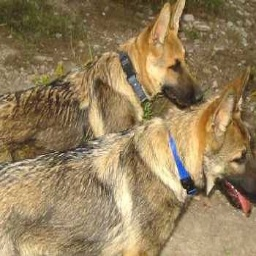dog: (1, 19, 256, 256)
